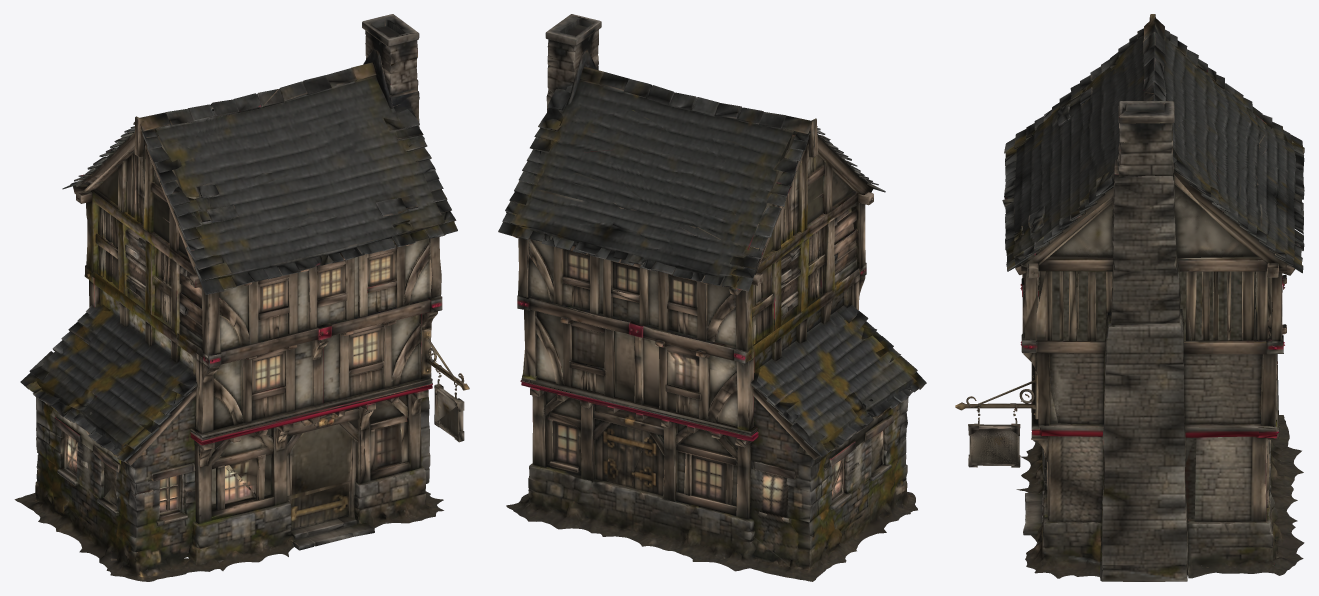
The model's file is vil-inn.fbx.
The picture shows the model from 3 angles, left to right: view 1: azimuth 30°, elevation 25°; view 2: azimuth 150°, elevation 25°; view 3: azimuth 270°, elevation 25°; orthographic projection. The views are drawn at different scales.
Visible parts, largest first — view 1: Mesh_0; view 2: Mesh_0; view 3: Mesh_0.
Part boxes in pixels (x1,y1,x2,y2): Mesh_0: (14,14,469,581); Mesh_0: (498,14,926,581); Mesh_0: (955,14,1304,581).
Size of the model in its own units: 75.49 by 95.21 by 64.94.
Materials: 1 (1 with a texture image).
